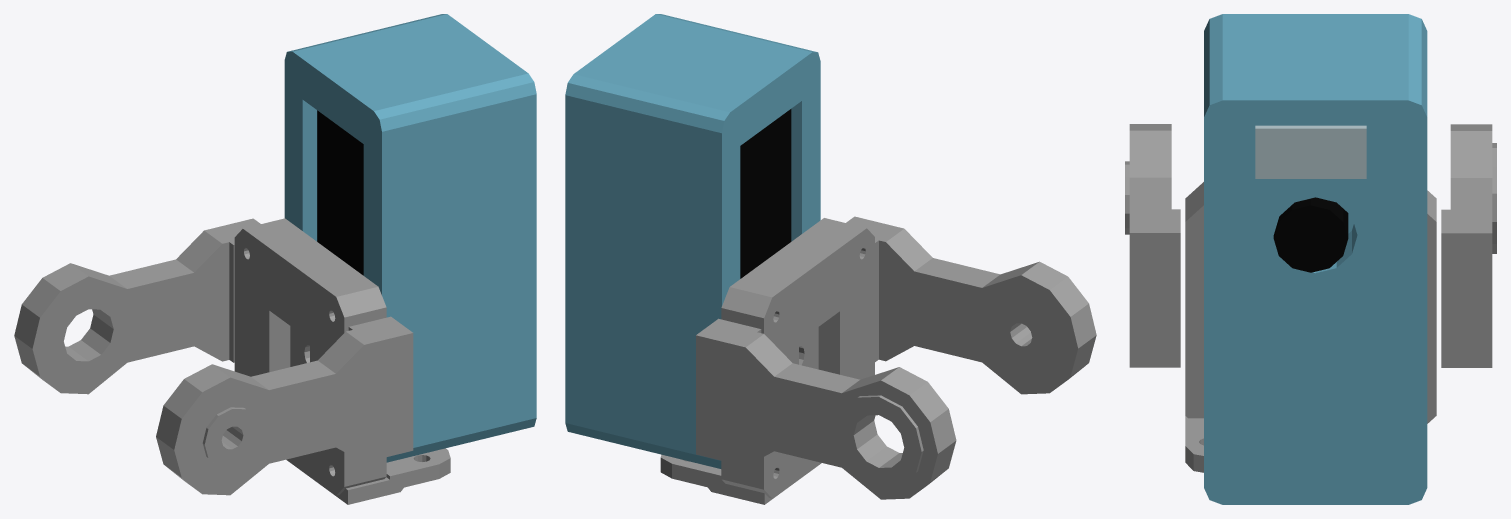
The model's file is head-leye-y.glb.
3 renders of one model, left to right at view 1: azimuth 30°, elevation 25°; view 2: azimuth 150°, elevation 25°; view 3: azimuth 270°, elevation 25°, orthographic. The views are drawn at different scales.
Size of the model in its own units: 0.0574 by 0.0505 by 0.04.
